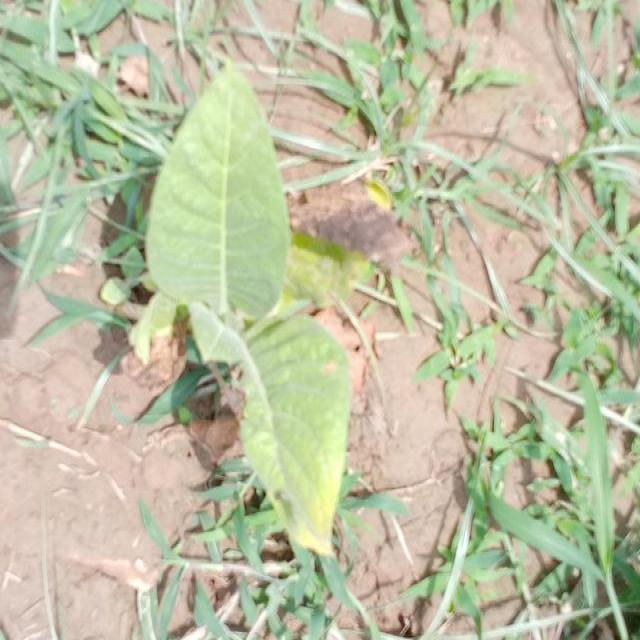crop: (154, 48, 348, 572)
